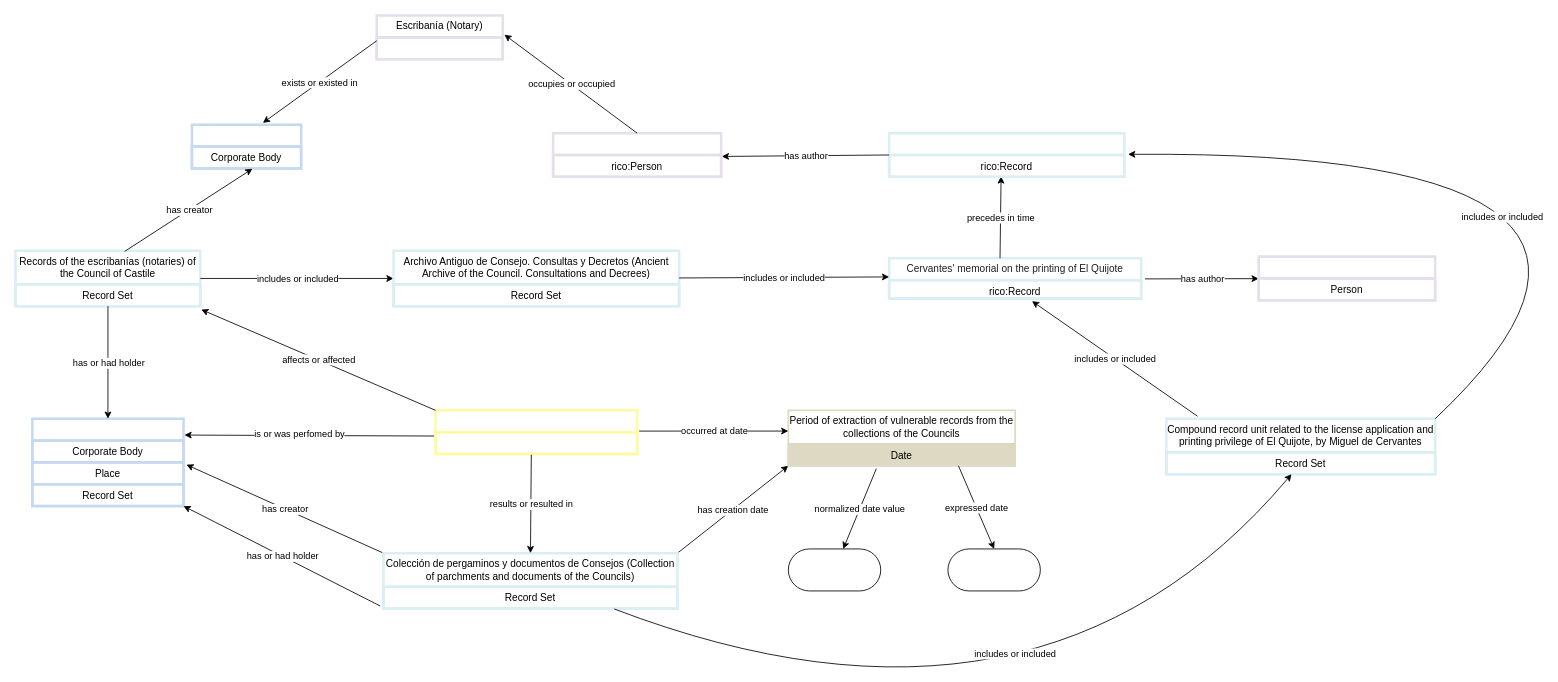
Image size: 1558x682. Some labels were removed from this diagram. The box of each missing label's shape, as (x1, y1, x2, y2) in pixels:
1980s: (947, 548, 1040, 591)
198X: (788, 548, 881, 591)
Antonio de Herrera y Tordesillas: (551, 131, 722, 178)
Archivo Histórico Nacional: (31, 417, 184, 507)
Council of Castile: (190, 123, 302, 169)
Extraction of vulnerable records: (434, 409, 638, 455)
Miguel de Cervantes Saavedra: (1257, 255, 1436, 301)
Report in favour of the printing of El Quijote: (887, 131, 1125, 178)
rico:Activity: (434, 430, 638, 455)
rico:Position: (375, 36, 504, 60)
